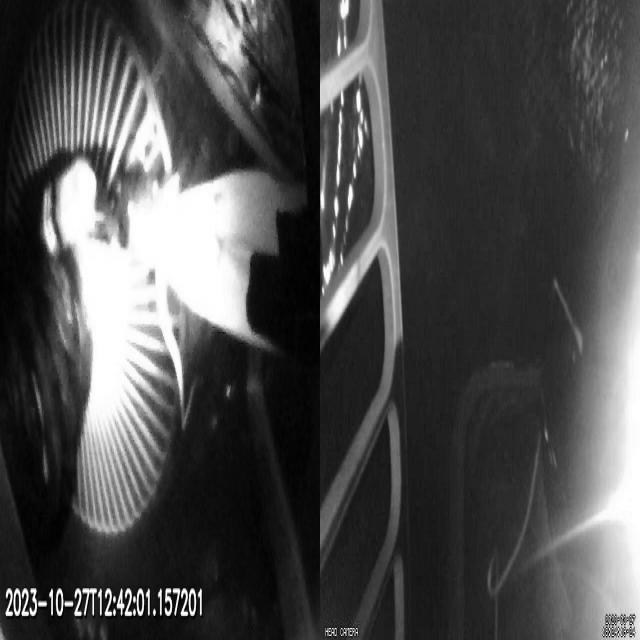head: (43, 161, 97, 249)
